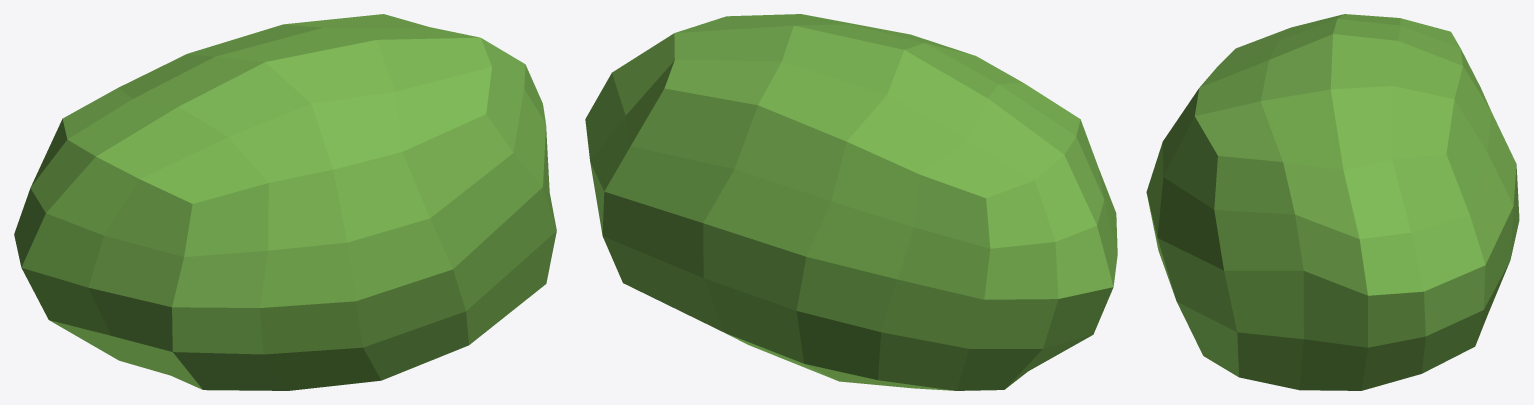
Rendered from msh_Bush01.fbx.
3 renders of one model, left to right at view 1: azimuth 30°, elevation 25°; view 2: azimuth 150°, elevation 25°; view 3: azimuth 270°, elevation 25°, orthographic. The views are drawn at different scales.
Visible parts, largest first — view 1: Cube.012; view 2: Cube.012; view 3: Cube.012.
Boxes of the visible parts, x1=… form: Cube.012: x1=14, y1=14, x2=556, y2=390; Cube.012: x1=585, y1=14, x2=1117, y2=390; Cube.012: x1=1146, y1=14, x2=1519, y2=390.
Size of the model in its own units: 249 by 142 by 160.
